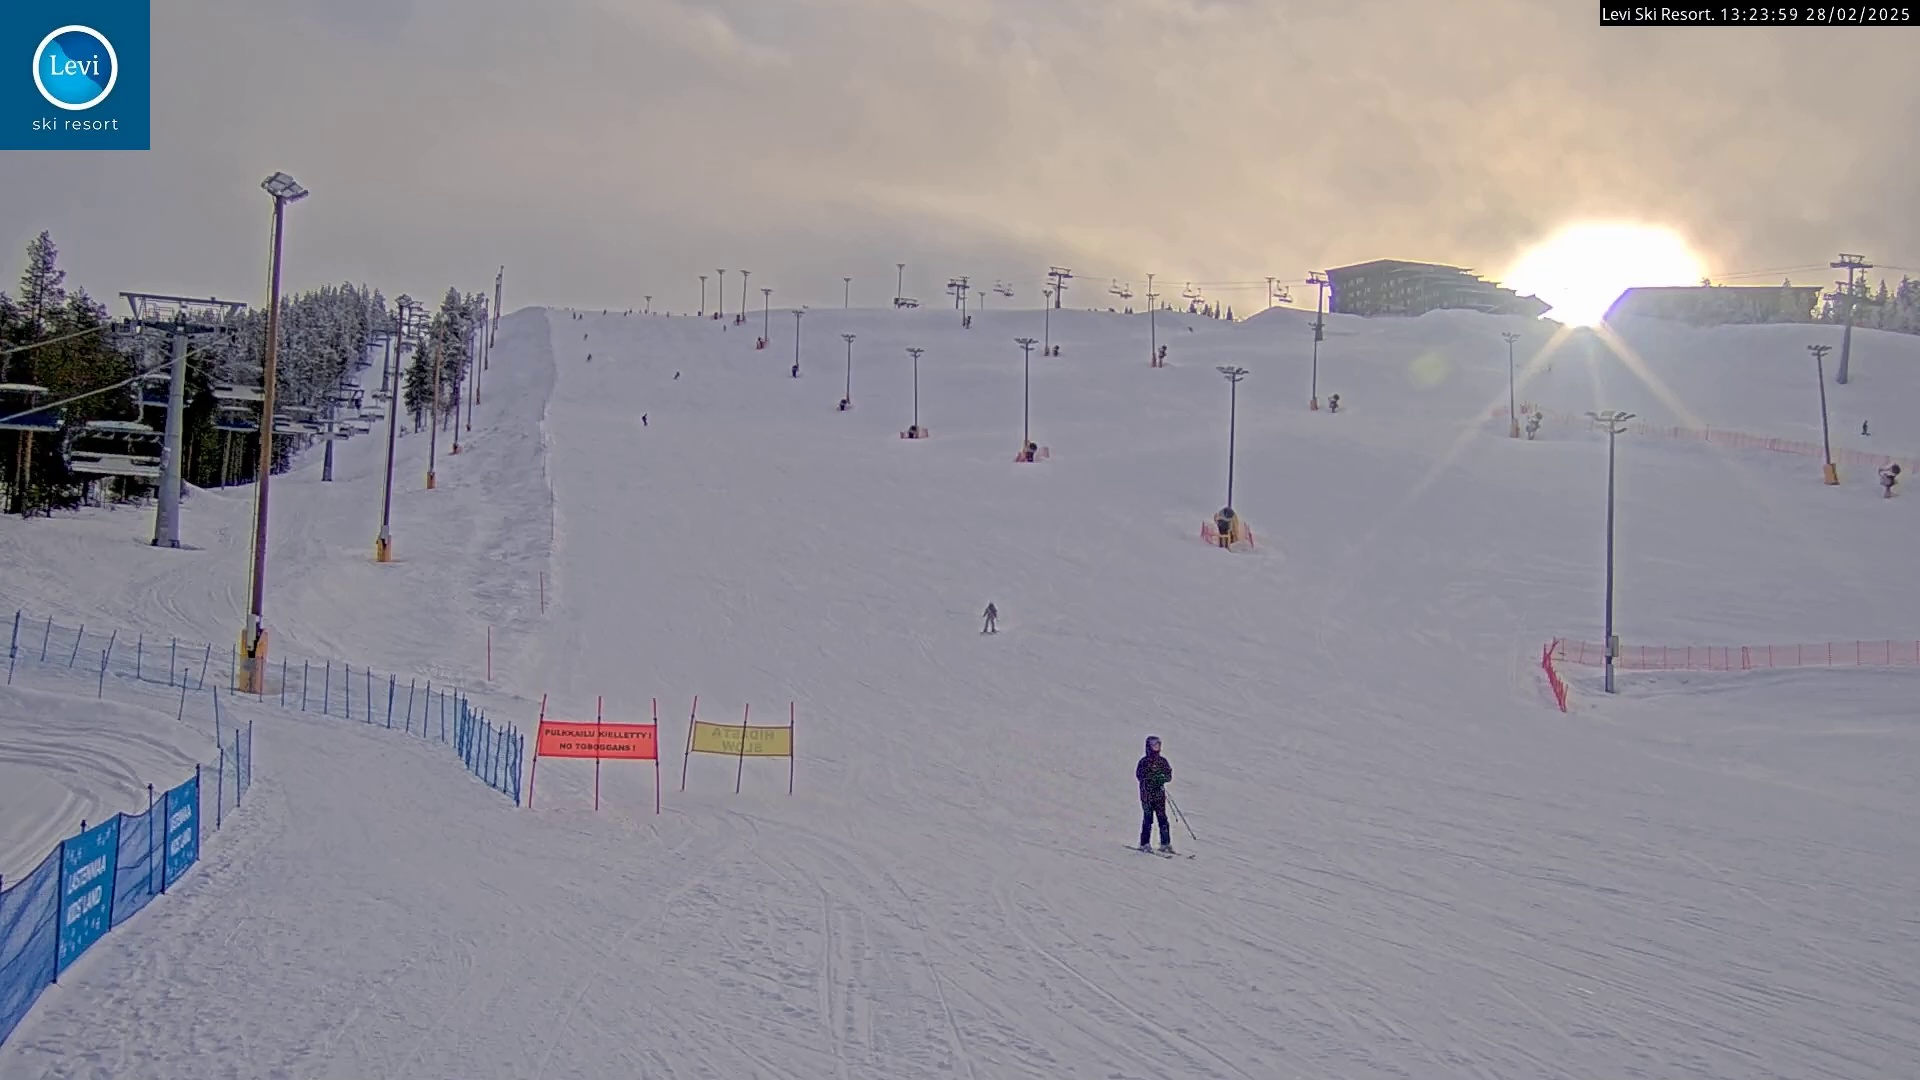skier: (1121, 732, 1195, 861)
